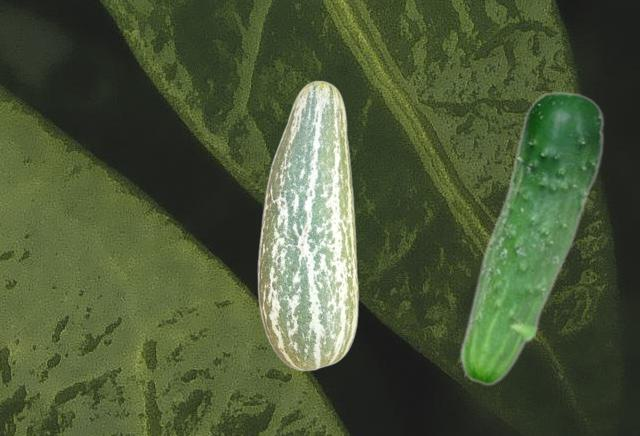cucumber: (458, 91, 604, 385), (257, 80, 358, 370)
